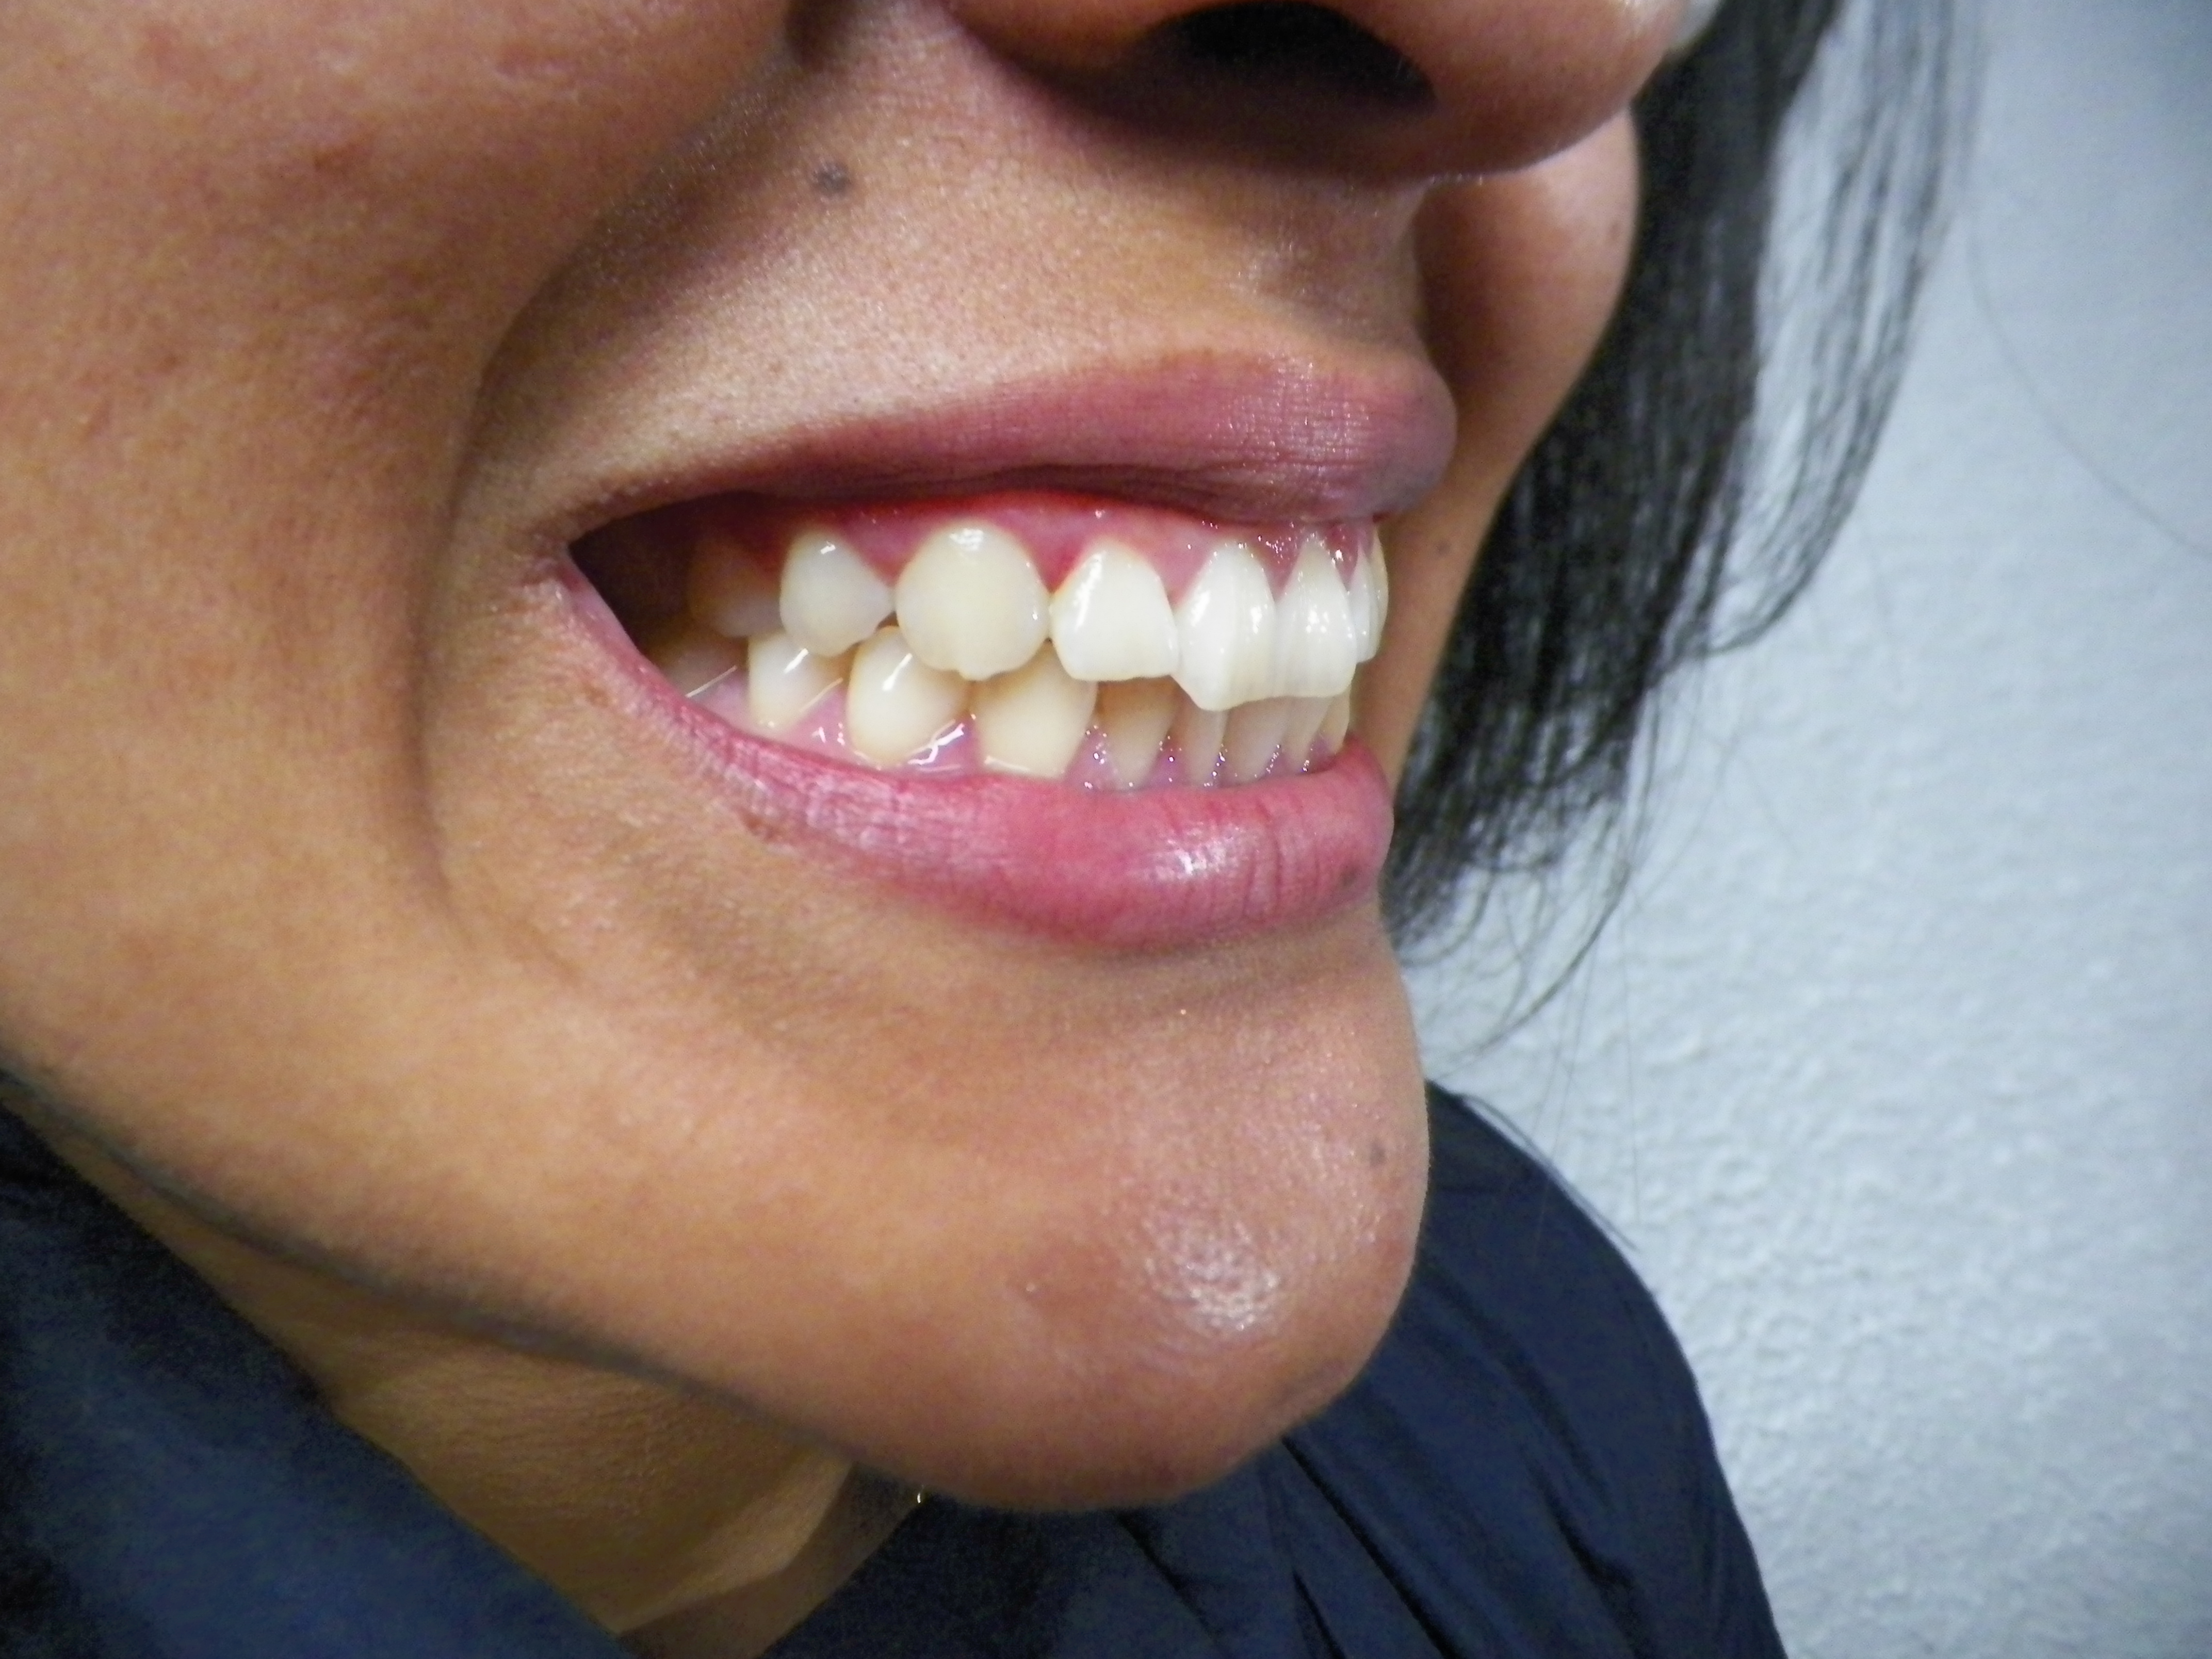boca: (542, 319, 1458, 958)
